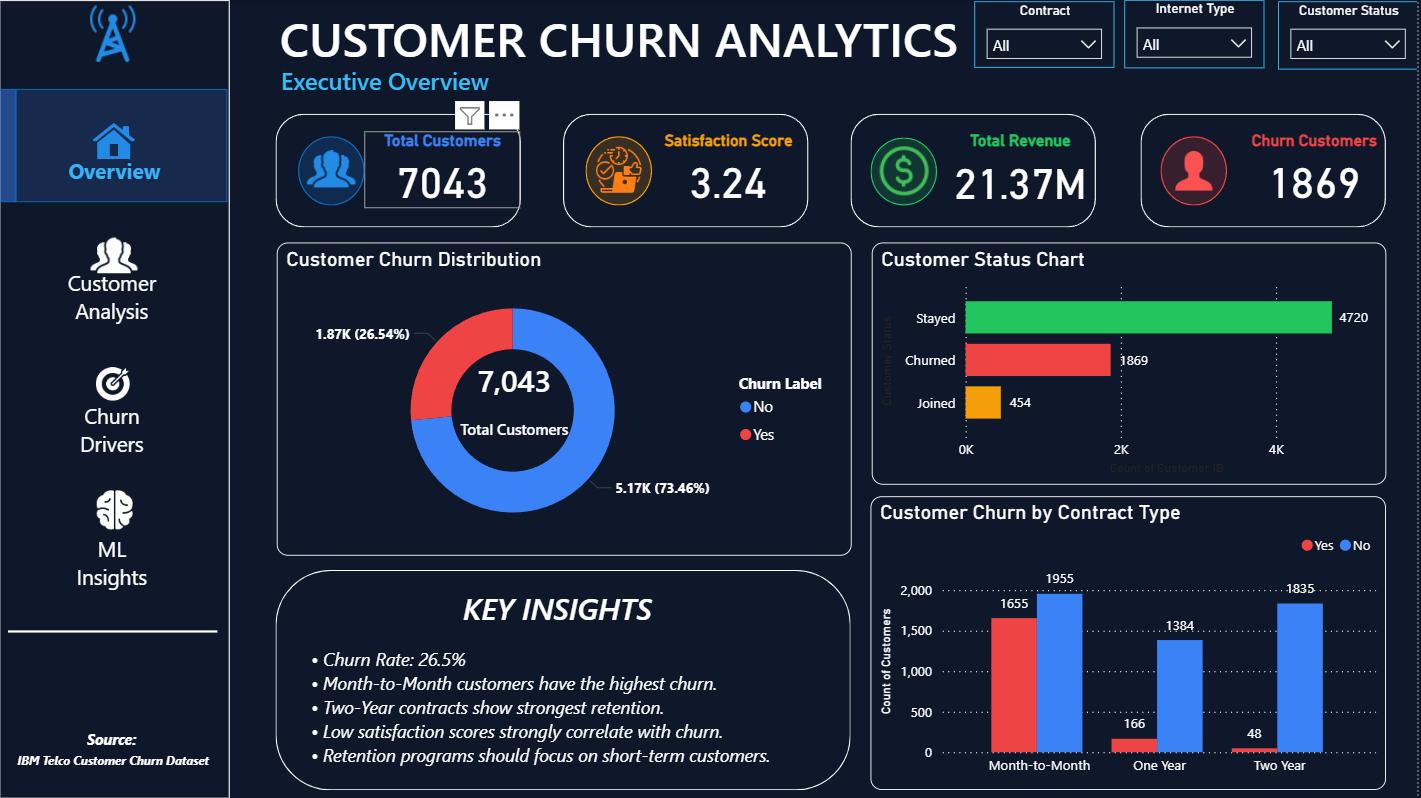

This screenshot's page, from the dashboard's own definition file:
{"tool":"powerbi","page":{"name":"Executive Overview","canvas":[1280,720],"ordinal":0},"visuals":[{"type":"shape","box":[250,513.8,518.8,198.8],"z":0},{"type":"shape","box":[250,102.5,221.2,102.5],"z":1000},{"type":"shape","box":[510,102.5,221.2,102.5],"z":2000},{"type":"card","title":"Satisfaction Score","fields":{"Values":["telco.Average Satisfaction"]},"box":[573.8,118.8,170,70],"z":3000},{"type":"shape","box":[768.8,102.5,221.2,102.5],"z":4000},{"type":"shape","box":[1030,102.5,221.2,102.5],"z":5000},{"type":"card","title":"Total Customers","fields":{"Values":["telco.Total Customers"]},"box":[330,118.8,141.2,70],"z":6000},{"type":"card","title":"Churn Customers","fields":{"Values":["telco.Churned Customers"]},"box":[1122.5,118.8,128.8,70],"z":7000},{"type":"card","title":"Total Revenue","fields":{"Values":["telco.Total Revenue Measure"]},"box":[853.8,118.8,137.5,71.2],"z":8000},{"type":"donutChart","title":"Customer Churn Distribution","fields":{"Category":["telco.Churn Label"],"Y":["CountNonNull(telco.Customer ID)"]},"box":[250.2,218.7,518.5,282.9],"z":9000},{"type":"shape","box":[1.2,0,207.9,720.2],"z":10000},{"type":"textbox","box":[249.5,0,672.6,81.9],"z":12000},{"type":"textbox","box":[250,52.5,280,41.2],"z":13000},{"type":"clusteredBarChart","title":"Customer Status Chart","fields":{"Category":["telco.Customer Status"],"Y":["CountNonNull(telco.Customer ID)"]},"box":[787.5,218.8,463.8,218.8],"z":14000},{"type":"clusteredColumnChart","title":"Customer Churn by Contract Type","fields":{"Category":["telco.Contract"],"Series":["telco.Churn Label"],"Y":["CountNonNull(telco.Customer ID)"]},"box":[786.2,447.5,465,265],"z":15000},{"type":"textbox","box":[277.5,525,453.8,178.8],"z":16000},{"type":"textbox","box":[52.5,136.2,103.8,35],"z":17000},{"type":"textbox","box":[51.2,237.5,103.8,306.2],"z":18000},{"type":"shape","box":[16.2,80.5,191.2,102.5],"z":19000},{"type":"shape","box":[0,80.5,16.2,102.5],"z":20000},{"type":"image","box":[80,102.5,48.8,51.2],"z":21000},{"type":"image","box":[82.5,320,42.5,52.5],"z":22000},{"type":"image","box":[77.5,205,53.8,52.5],"z":23000},{"type":"image","box":[81.2,437.5,47.5,45],"z":24000},{"type":"image","box":[70,0,67.5,61.2],"z":25000},{"type":"shape","box":[270,122.5,60,62.5],"z":26000},{"type":"image","box":[270,126.2,60,53.8],"z":27000},{"type":"shape","box":[530,122.5,60,62.5],"z":28000},{"type":"image","box":[530,126.2,60,53.8],"z":29000},{"type":"shape","box":[786.2,123.8,60,61.2],"z":30000},{"type":"image","box":[781.2,122.5,71.2,62.5],"z":31000},{"type":"shape","box":[1048.8,122.5,60,62.5],"z":32000},{"type":"image","box":[1052.5,123.8,51.2,61.2],"z":33000},{"type":"shape","box":[8.8,538.8,188.8,61.2],"z":34000},{"type":"textbox","box":[0,653,207.9,50.1],"z":35000},{"type":"slicer","title":"Contract","fields":{"Values":["telco.Contract"]},"box":[880,1.2,126.2,60],"z":36000},{"type":"slicer","title":"Internet Type","fields":{"Values":["telco.Internet Type"]},"box":[1015,0,126.2,61.2],"z":37000},{"type":"slicer","title":"Customer Status","fields":{"Values":["telco.Customer Status"]},"box":[1153.8,1.2,126.2,61.2],"z":38000},{"type":"textbox","box":[400.1,329.1,128.5,63.1],"z":39000}]}

Visuals, with their boxes in screenshot pixels (x1, y1, x2, y2), scaled from the page's 1280x720 canvas onto the 1421x798 screenshot:
shape: 278:569:853:790
shape: 278:114:523:227
shape: 566:114:812:227
"Satisfaction Score" card: 637:132:826:209
shape: 853:114:1099:227
shape: 1143:114:1389:227
"Total Customers" card: 366:132:523:209
"Churn Customers" card: 1246:132:1389:209
"Total Revenue" card: 948:132:1100:211
"Customer Churn Distribution" donutChart: 278:242:853:556
shape: 1:0:232:797
textbox: 277:0:1024:91
textbox: 278:58:588:104
"Customer Status Chart" clusteredBarChart: 874:243:1389:485
"Customer Churn by Contract Type" clusteredColumnChart: 873:496:1389:790
textbox: 308:582:812:780
textbox: 58:151:174:190
textbox: 57:263:172:603
shape: 18:89:230:203
shape: 0:89:18:203
image: 89:114:143:170
image: 92:355:139:413
image: 86:227:146:285
image: 90:485:143:535
image: 78:0:153:68
shape: 300:136:366:205
image: 300:140:366:200
shape: 588:136:655:205
image: 588:140:655:200
shape: 873:137:939:205
image: 867:136:946:205
shape: 1164:136:1231:205
image: 1168:137:1225:205
shape: 10:597:219:665
textbox: 0:724:231:779
"Contract" slicer: 977:1:1117:68
"Internet Type" slicer: 1127:0:1267:68
"Customer Status" slicer: 1281:1:1420:69
textbox: 444:365:587:435
